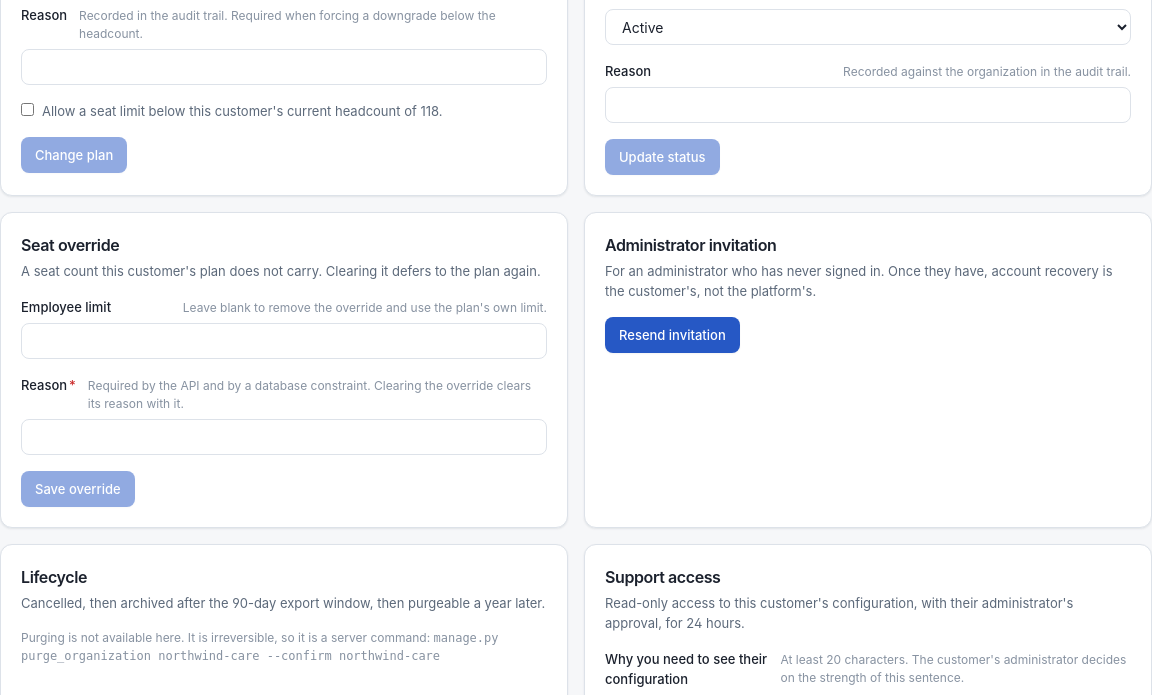
Scenario: resending an administrator invitation › confirms first, then reports who was mailed
The width and height of the screenshot is (1152, 695).
(page scrolled)
Step 1. Click the button "Resend invitation" → {"x": 672, "y": 335}, box x1=605 y1=317 x2=740 y2=353
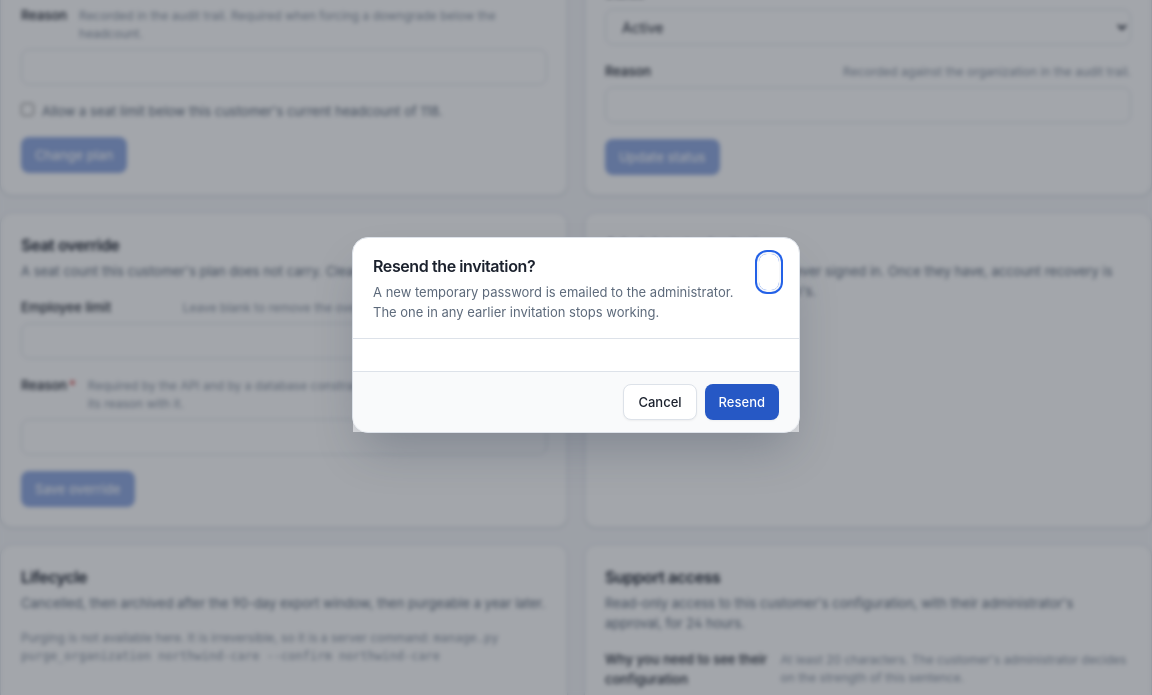
Step 2. Click the button "Resend" → {"x": 742, "y": 402}, box x1=705 y1=384 x2=779 y2=420
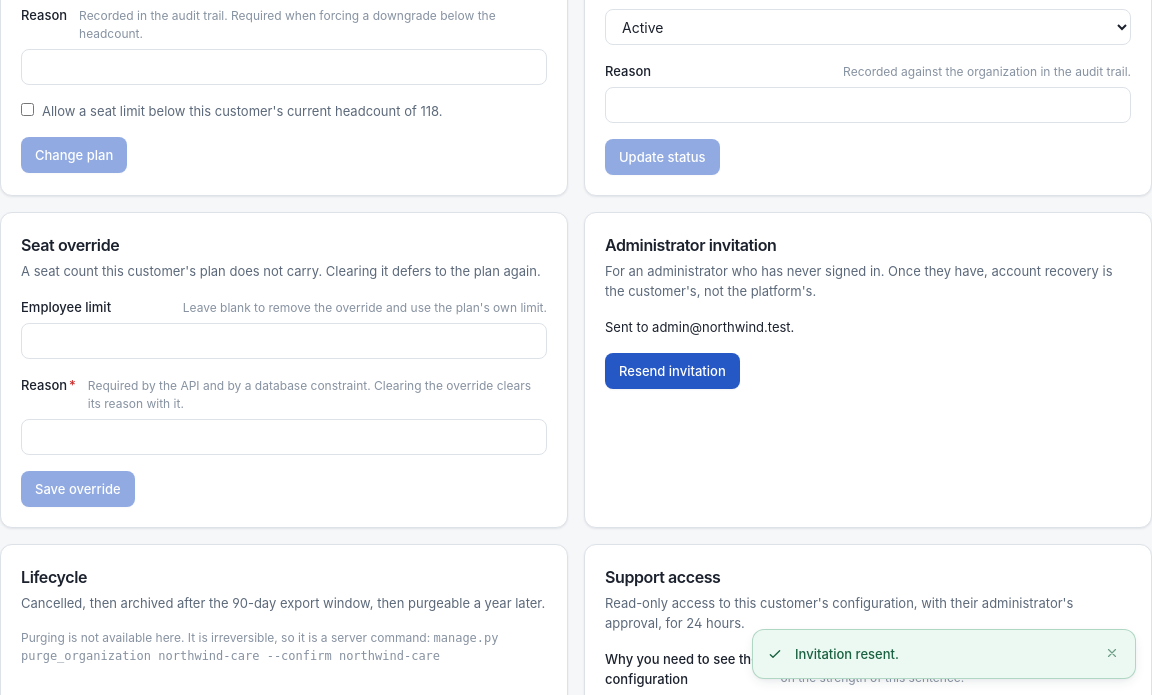
expect the list item "Sent to admin@northwind.test." is shown: met, box x1=605 y1=319 x2=794 y2=335
